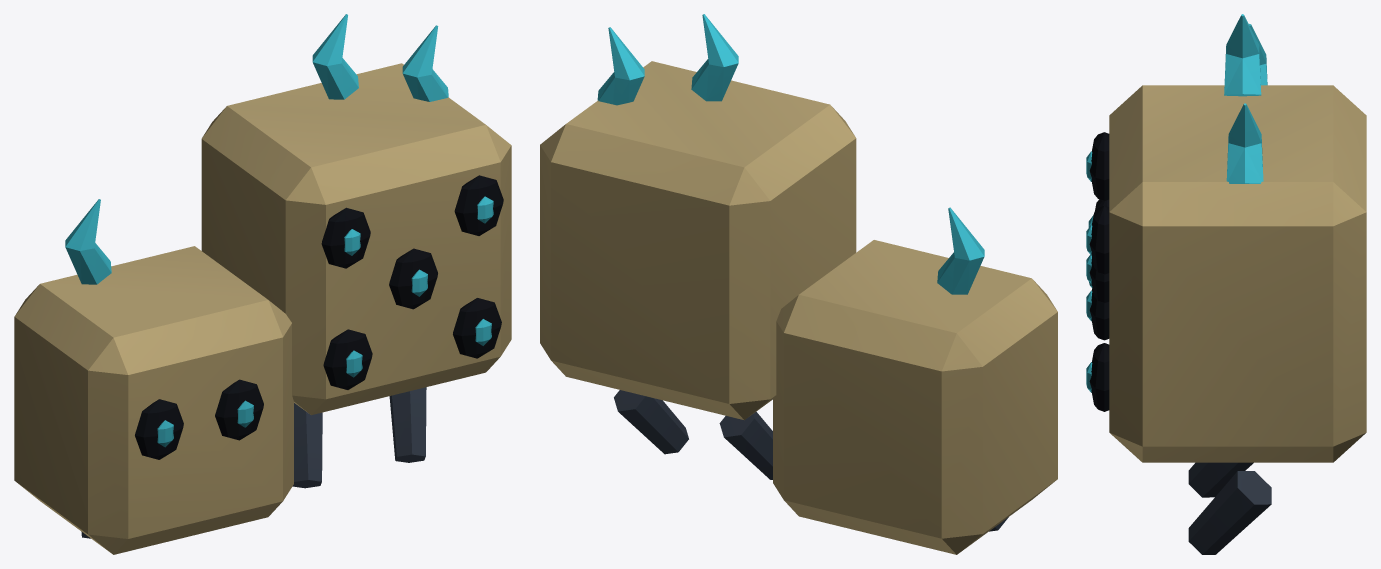
File: marrow_dice.fbx
3 renders of one model, left to right at view 1: azimuth 30°, elevation 25°; view 2: azimuth 150°, elevation 25°; view 3: azimuth 270°, elevation 25°, orthographic. The views are drawn at different scales.
Parts seen in each view (by area): view 1: marrow_dice; view 2: marrow_dice; view 3: marrow_dice.
Boxes of the visible parts, box(x1,y1,x2,y2) form: marrow_dice: box(14, 14, 511, 554); marrow_dice: box(540, 14, 1057, 554); marrow_dice: box(1086, 14, 1366, 554).
Bounding box in the file's own units: 2.32 × 2.37 × 1.18.
